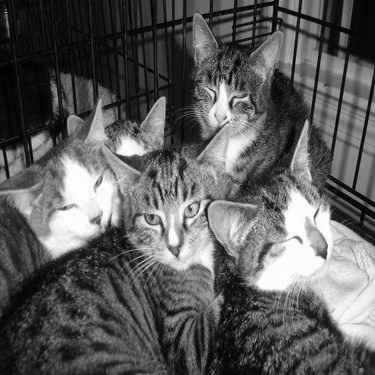cat: (5, 119, 234, 373), (209, 117, 372, 373), (190, 10, 334, 202), (5, 96, 125, 306), (62, 89, 168, 159)
